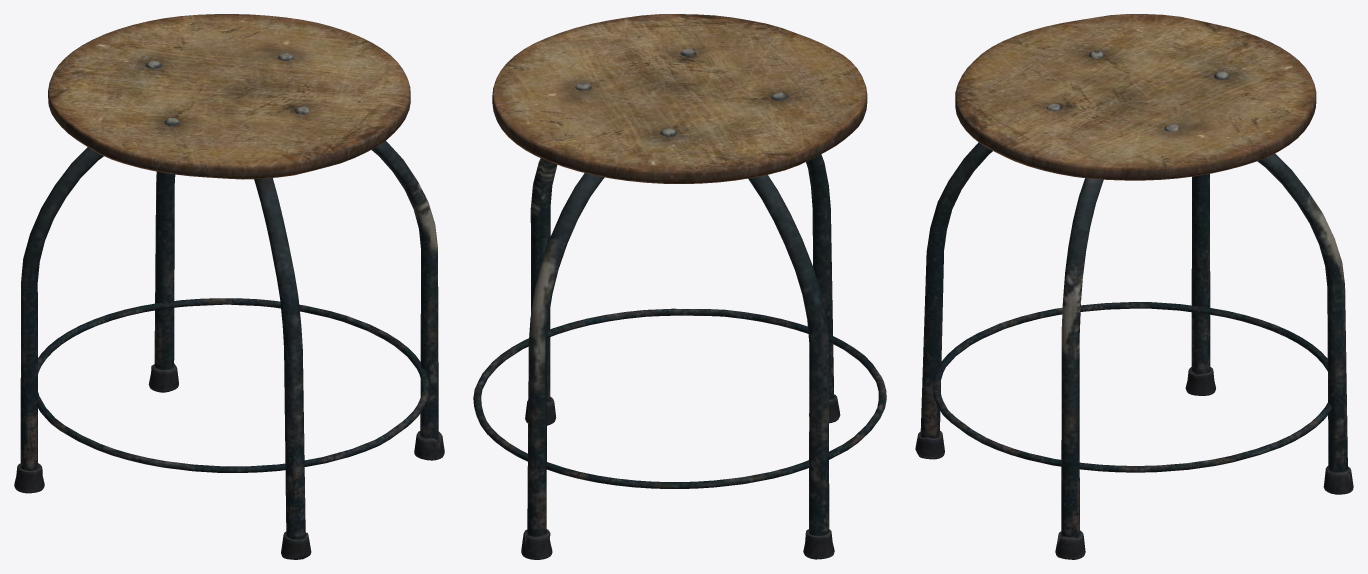
File: metal_stool_02.glb
The picture shows the model from 3 angles, left to right: view 1: azimuth 30°, elevation 25°; view 2: azimuth 150°, elevation 25°; view 3: azimuth 270°, elevation 25°; orthographic projection. The views are drawn at different scales.
Parts seen in each view (by area): view 1: metal_stool_02; view 2: metal_stool_02; view 3: metal_stool_02.
Boxes of the visible parts, <box> form: metal_stool_02: <box>14,14,444,559</box>; metal_stool_02: <box>473,14,886,559</box>; metal_stool_02: <box>915,14,1353,559</box>.
Size of the model in its own units: 0.7433 by 0.76 by 0.7843.
1 material, 1 textured.
